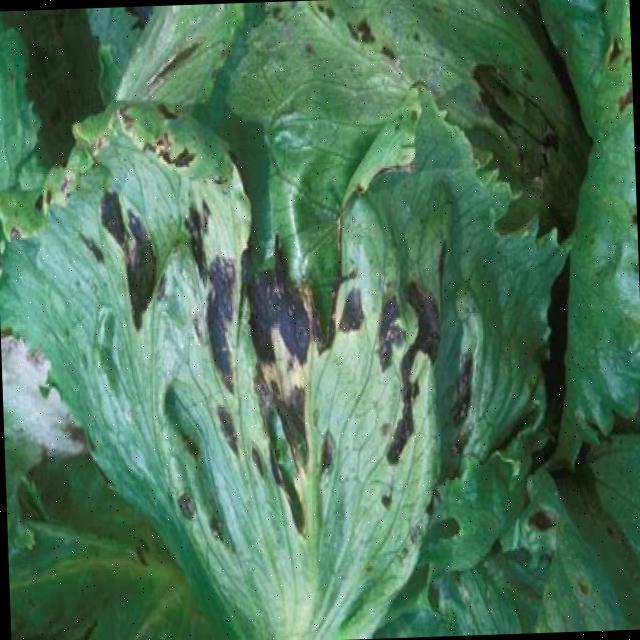Bacterial: (103, 185, 452, 590)
